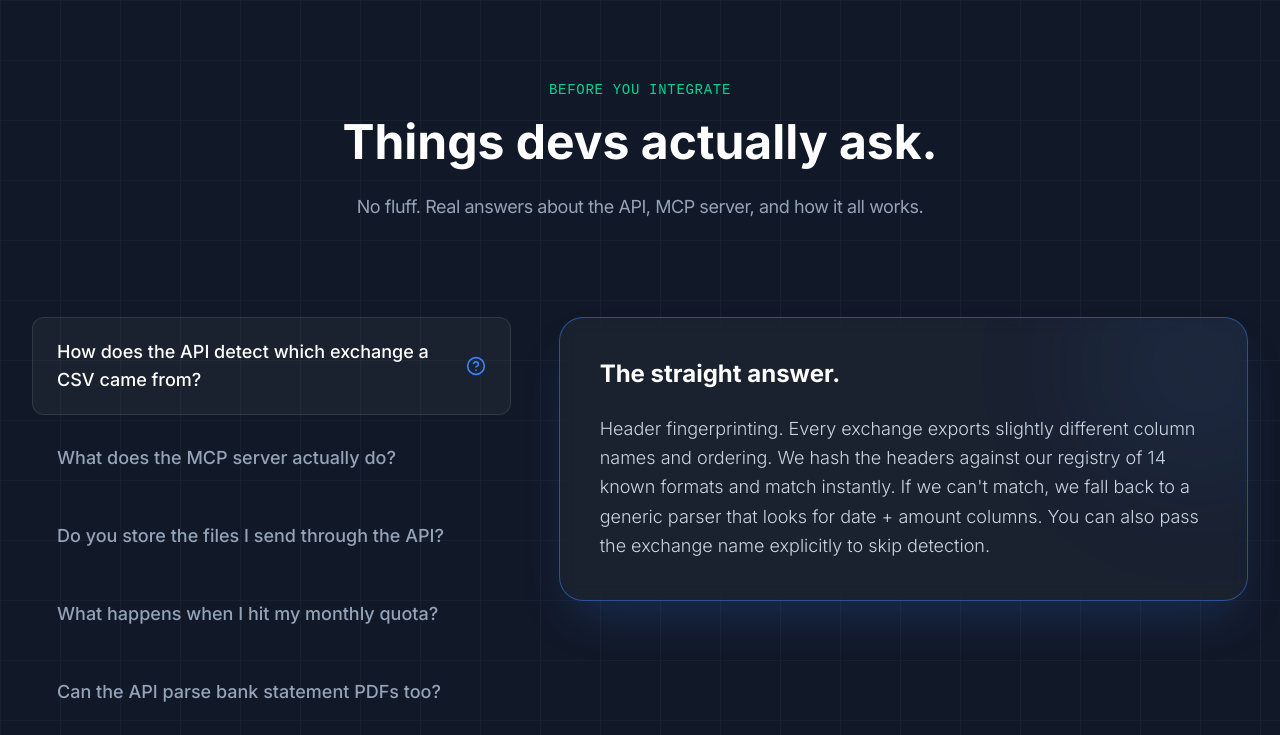
FAQ Component › Desktop Interaction › changes active question when clicked (desktop)
This screenshot has width=1280, height=735.
Step 1. Click the button "What does the MCP server actually do?" → click(271, 458), box [32,423,511,493]
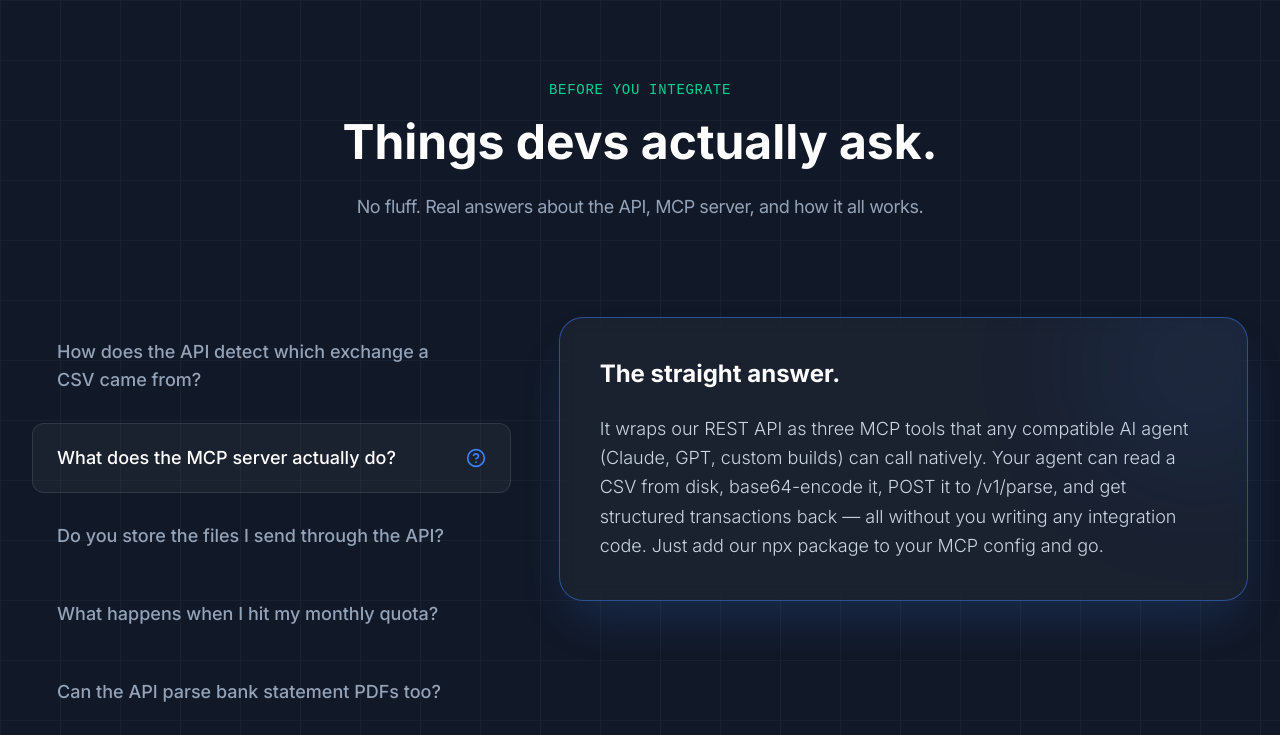
Expected: the text "wraps our REST API" is shown, [600,418,1188,556]
